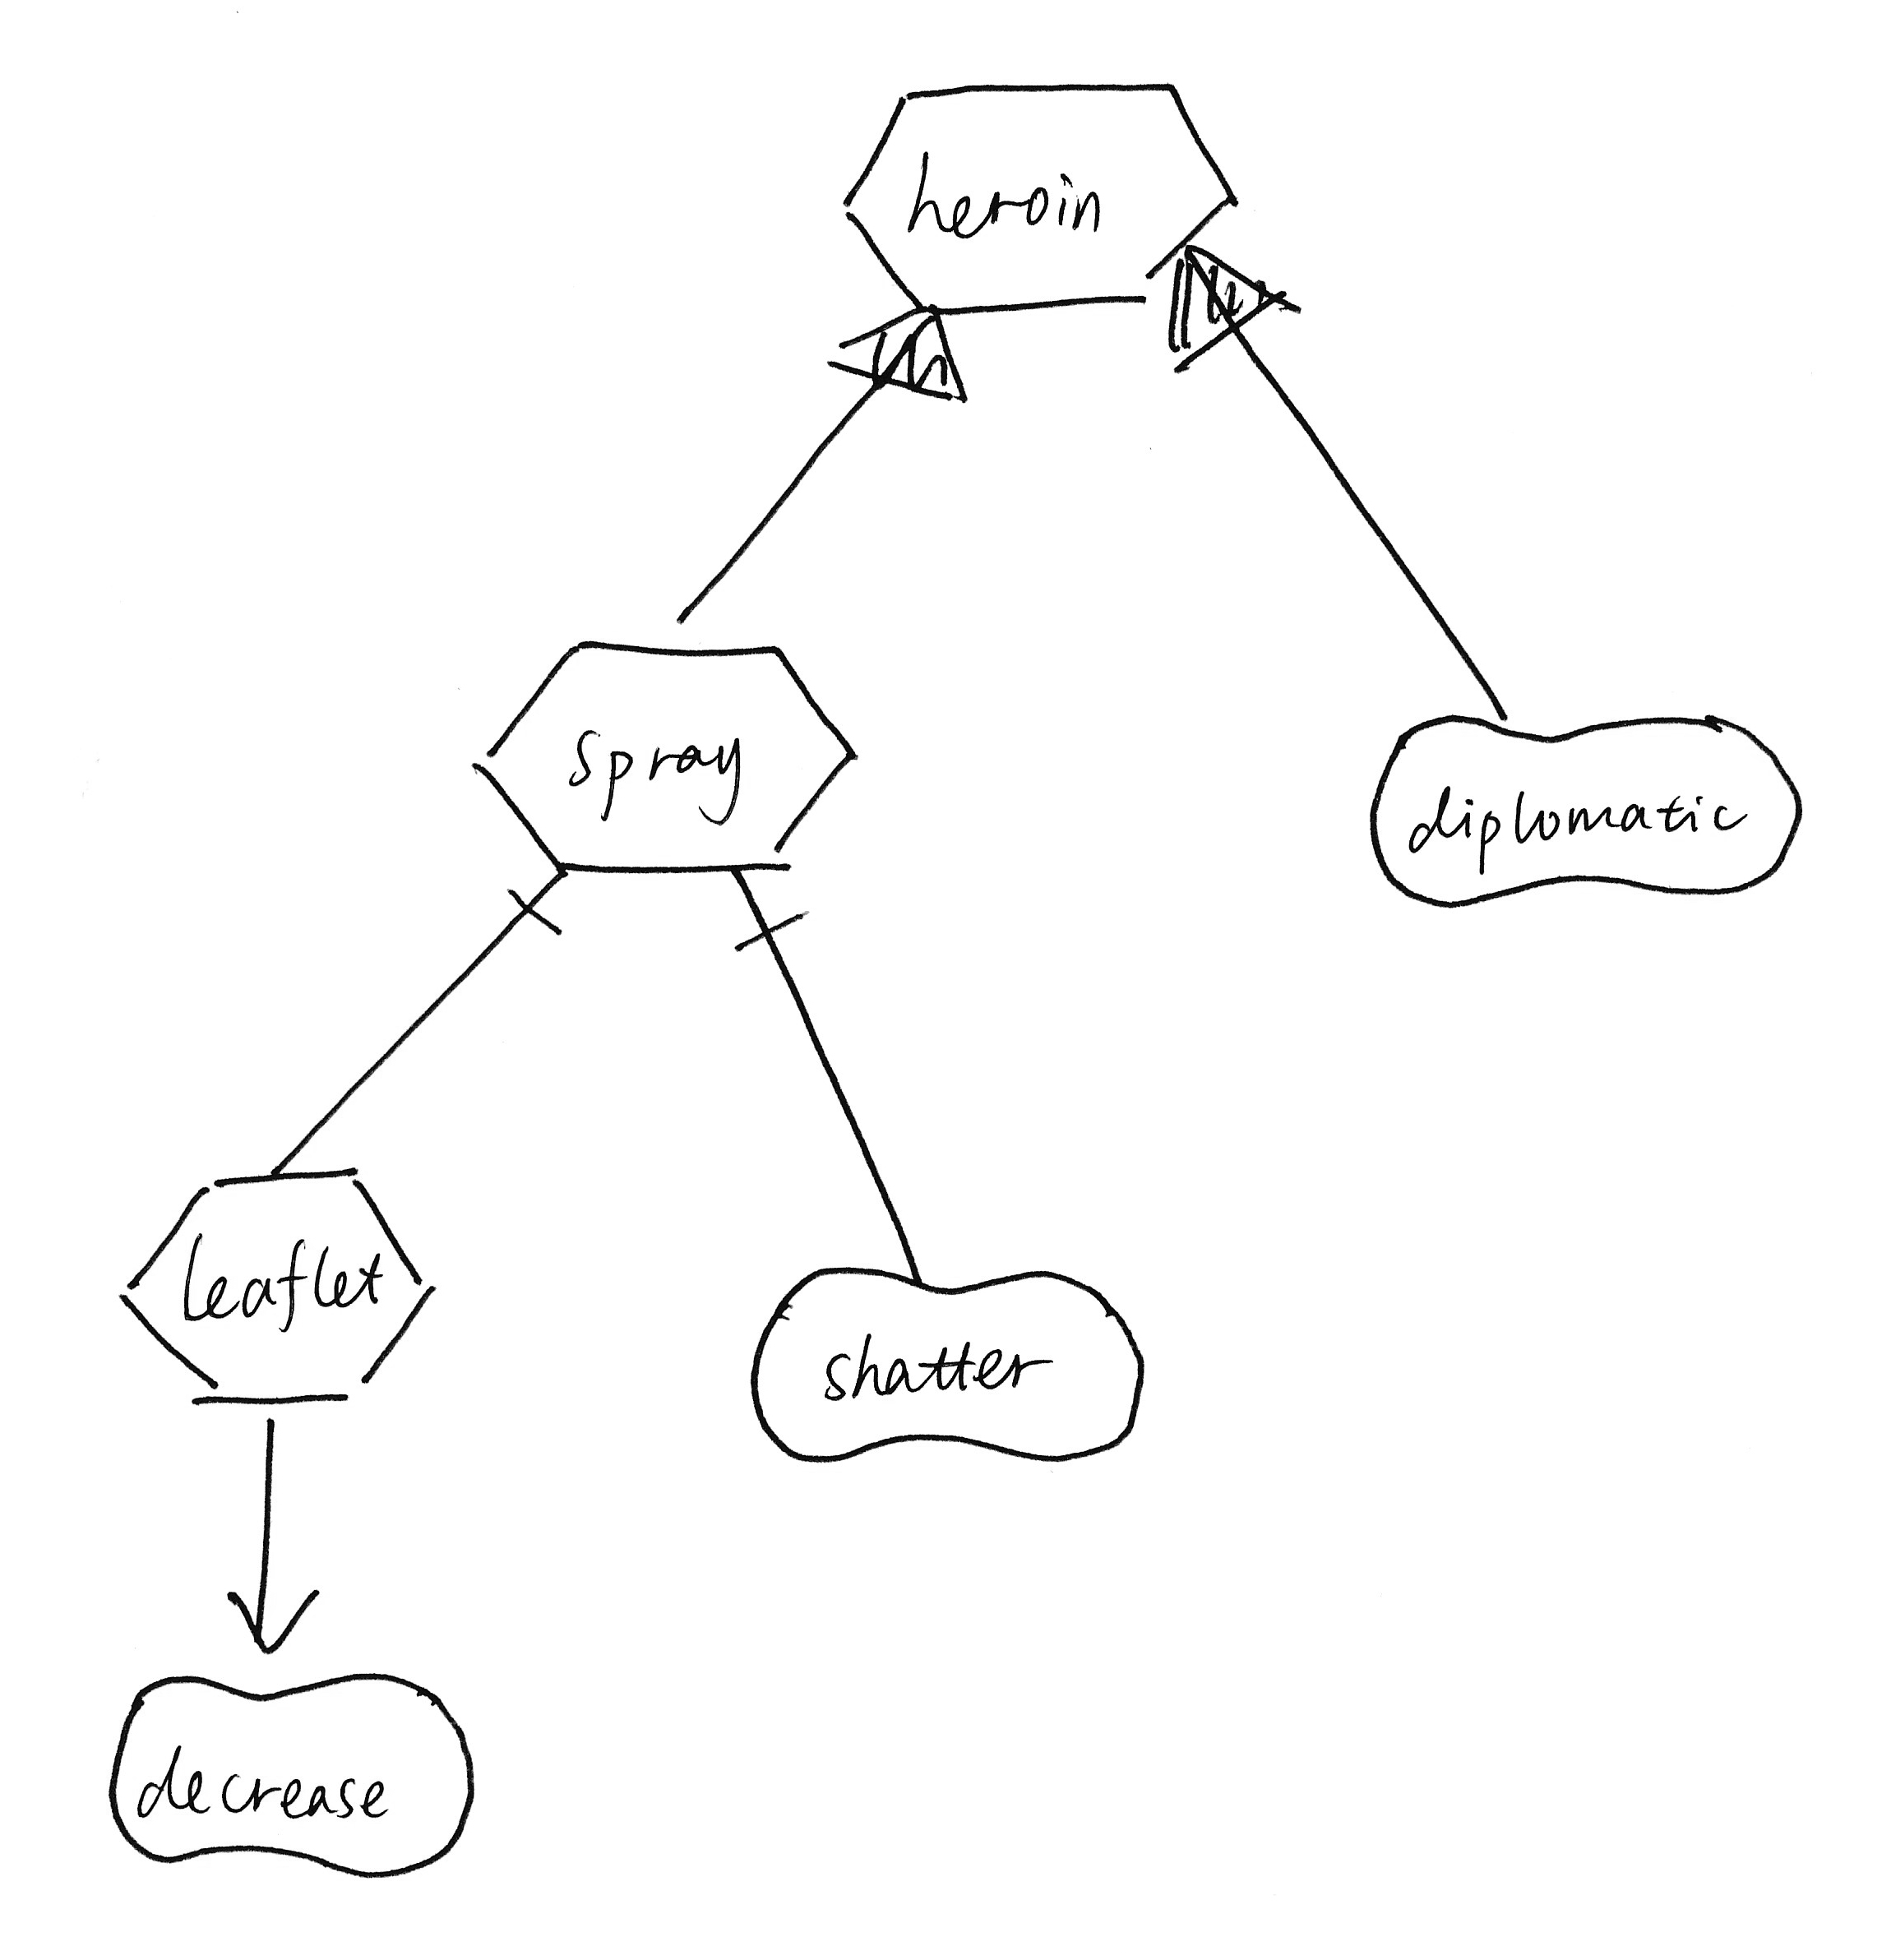and: (493, 864, 581, 959), (724, 896, 819, 983)
arrow: (203, 1564, 329, 1671)
or: (1151, 220, 1310, 390), (810, 289, 983, 422)
quality: (1357, 696, 1821, 936), (733, 1253, 1158, 1477), (91, 1659, 488, 1888)
task: (451, 614, 876, 887), (826, 63, 1249, 327), (96, 1155, 450, 1419)
